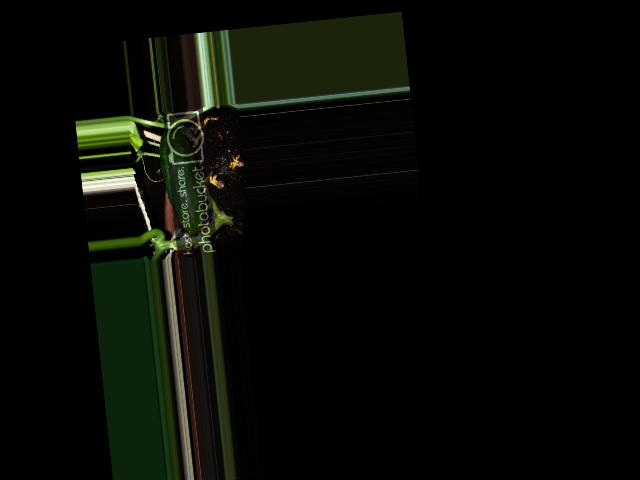cucumber: (157, 126, 207, 236)
